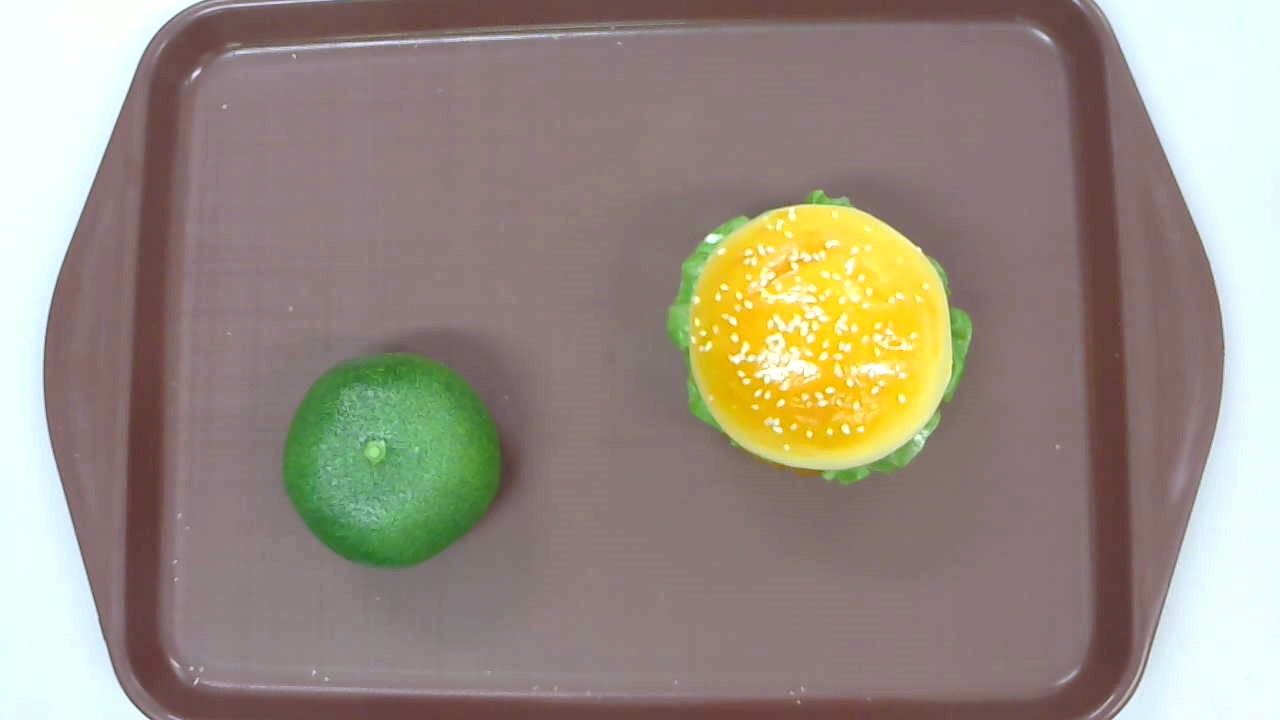green orange: (281, 353, 502, 569)
hamburger: (665, 190, 972, 484)
